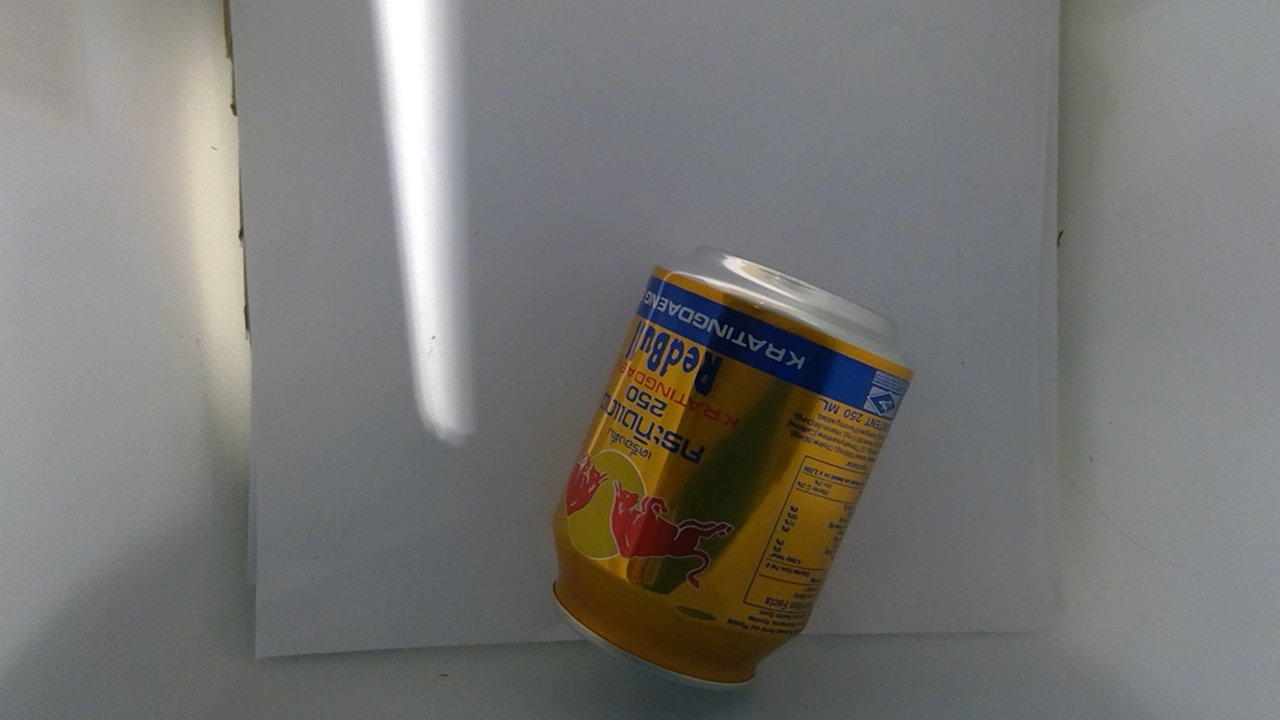bottle: (546, 240, 918, 704)
